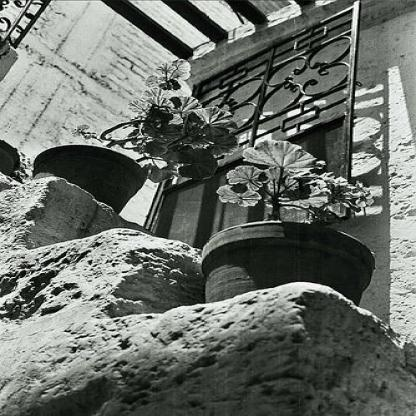pottedplant: (202, 140, 384, 306), (32, 90, 240, 213)
